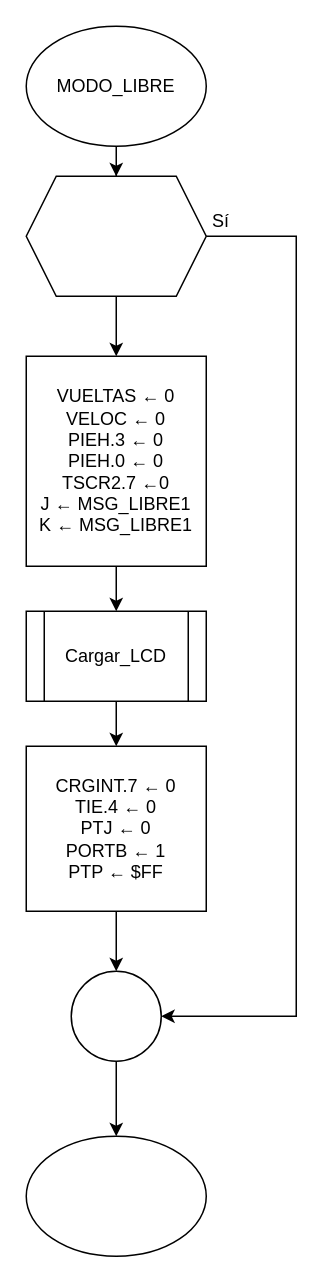
The diagram is 335 pixels wide and 1283 high, and some of its shapes have lost their labels. The shapes that lost their labels are listed below. From the top down, each one's centre as x and y in pixels, then its label:
(115,235): (CRGINT.7) = 0
(115,1195): RETORNAR
